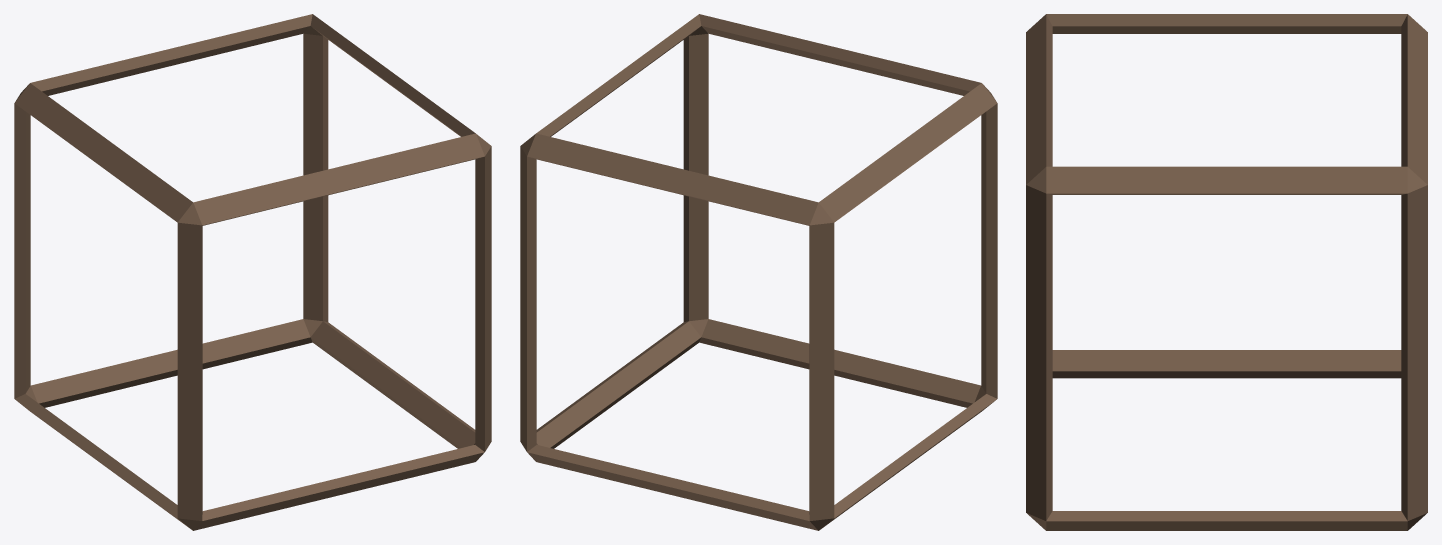
3 renders of one model, left to right at view 1: azimuth 30°, elevation 25°; view 2: azimuth 150°, elevation 25°; view 3: azimuth 270°, elevation 25°, orthographic. The views are drawn at different scales.
Visible parts, largest first — view 1: Cube; view 2: Cube; view 3: Cube.
Part boxes in pixels (x1,y1,x2,y2): Cube: (14, 14, 491, 530); Cube: (520, 14, 997, 530); Cube: (1026, 14, 1427, 530).
Bounding box in the file's own units: 202 × 202 × 202.
